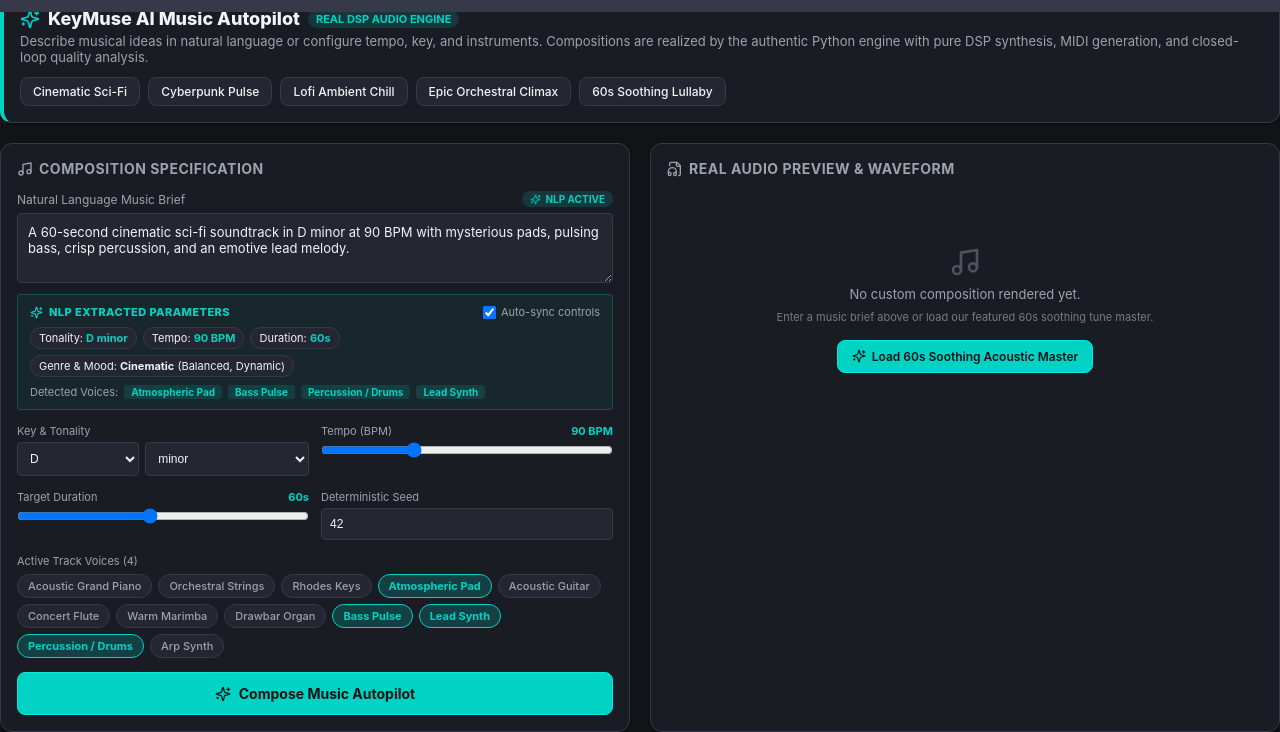
Scenario: AiStudio Component › handles composition submission, displays real audio preview and inspection metrics
The image size is (1280, 732).
(page scrolled)
Click the button "Compose Music Autopilot": (315, 694) top-left (17, 672), bottom-right (613, 715)
(page scrolled)
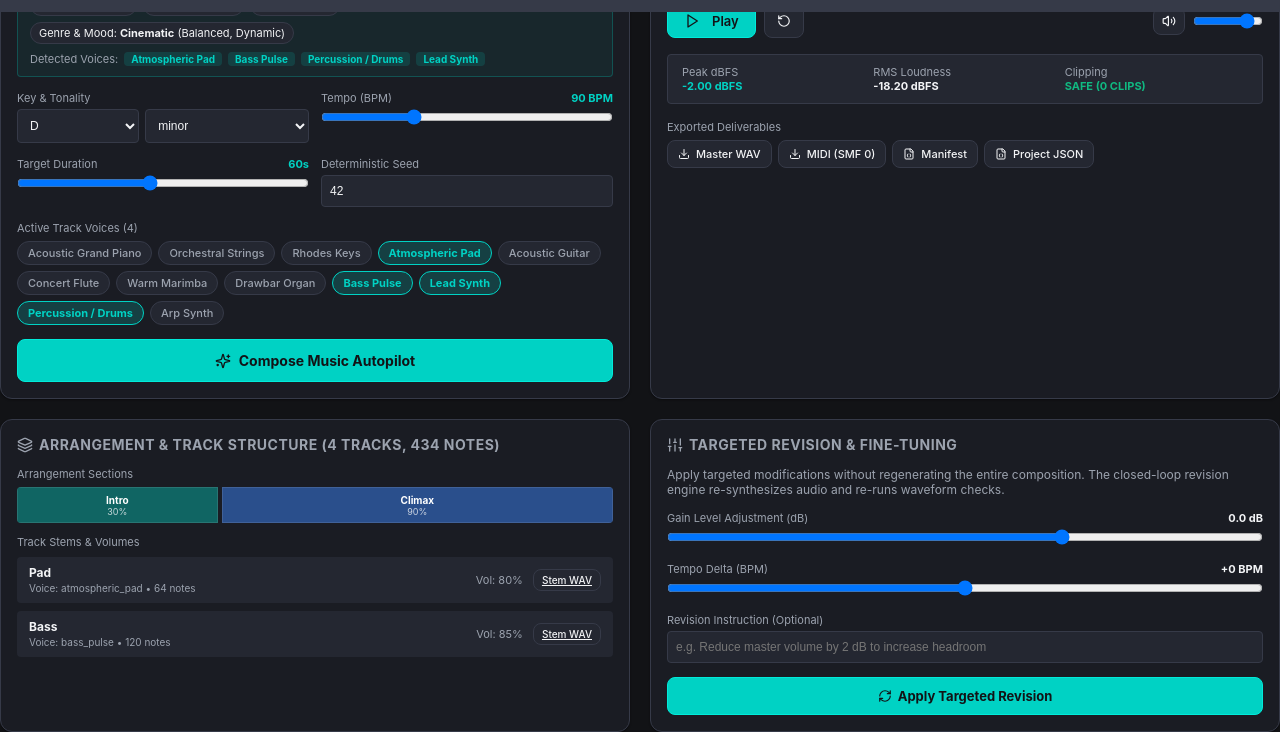
Expected: the text "-2.00 dBFS" is shown, top-left (682, 79), bottom-right (742, 93)
Expected: the text "SAFE (0 CLIPS)" is shown, top-left (1065, 79), bottom-right (1146, 93)
Expected: the link "Master WAV" is shown, top-left (667, 140), bottom-right (772, 168)
